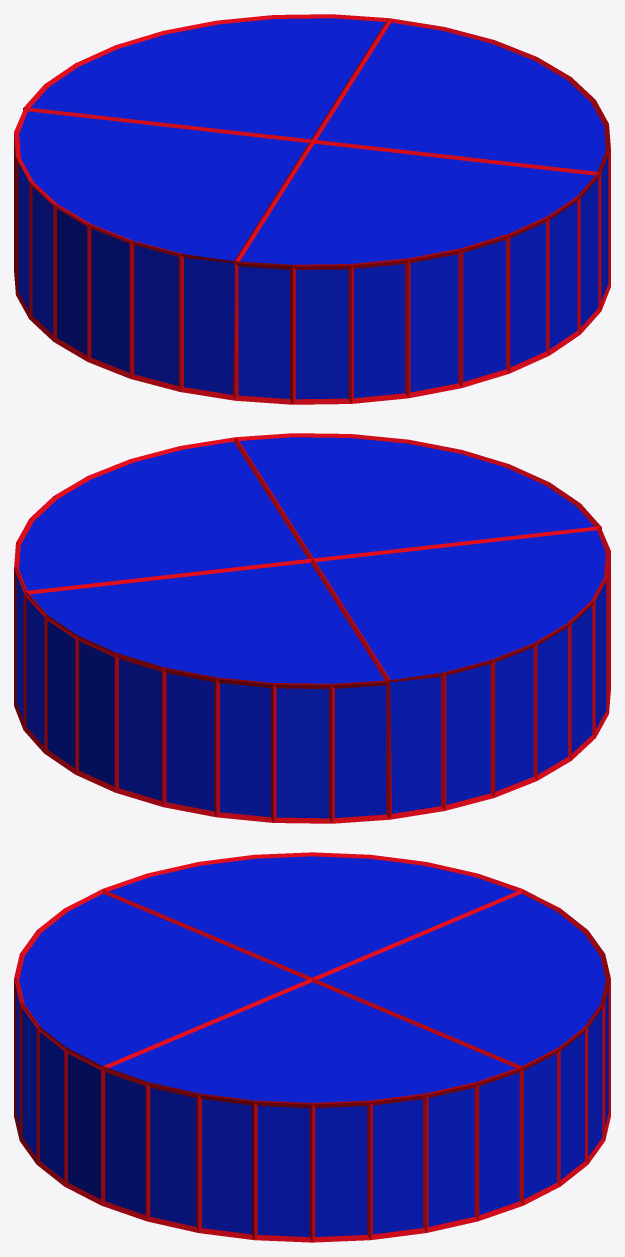
The model's file is Cross_Button.fbx.
3 renders of one model, top to bottom at view 1: azimuth 30°, elevation 25°; view 2: azimuth 150°, elevation 25°; view 3: azimuth 270°, elevation 25°, orthographic.
Visible parts, largest first — view 1: Cross_Button.001; view 2: Cross_Button.001; view 3: Cross_Button.001.
Part boxes in pixels (box(x1,y1,x2,y2)): Cross_Button.001: box(14, 14, 610, 404); Cross_Button.001: box(14, 433, 610, 823); Cross_Button.001: box(14, 852, 610, 1242).
Size of the model in its own units: 201 by 51.69 by 201.
